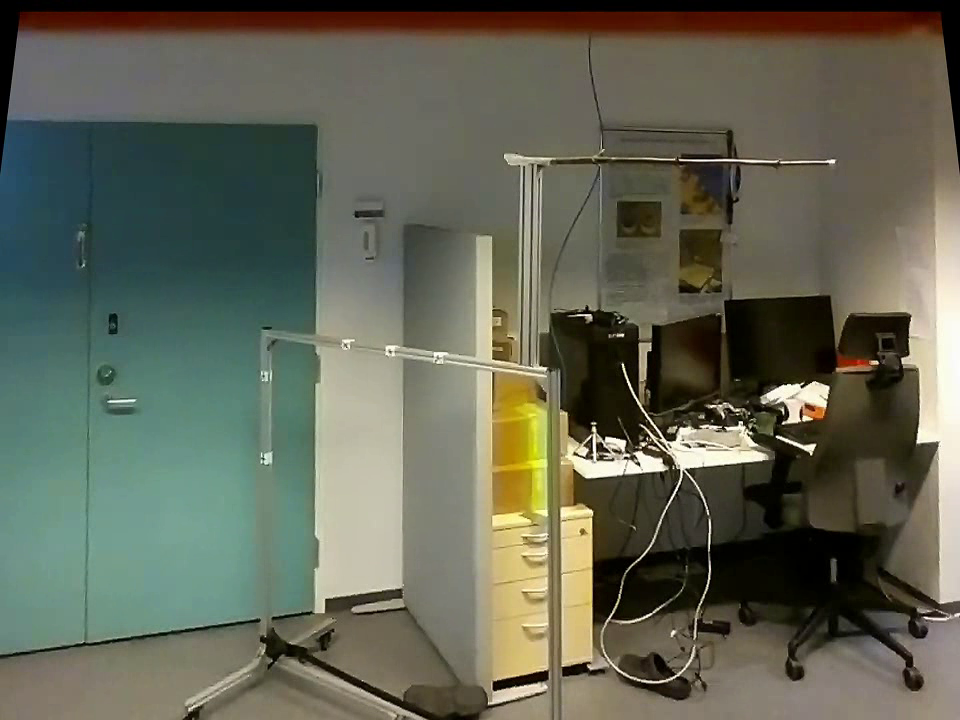aluminum_frame: (175, 609, 343, 716), (265, 322, 551, 382), (538, 361, 567, 719), (271, 649, 418, 719), (253, 323, 275, 662), (513, 166, 544, 369)
branch: (559, 146, 827, 176)
